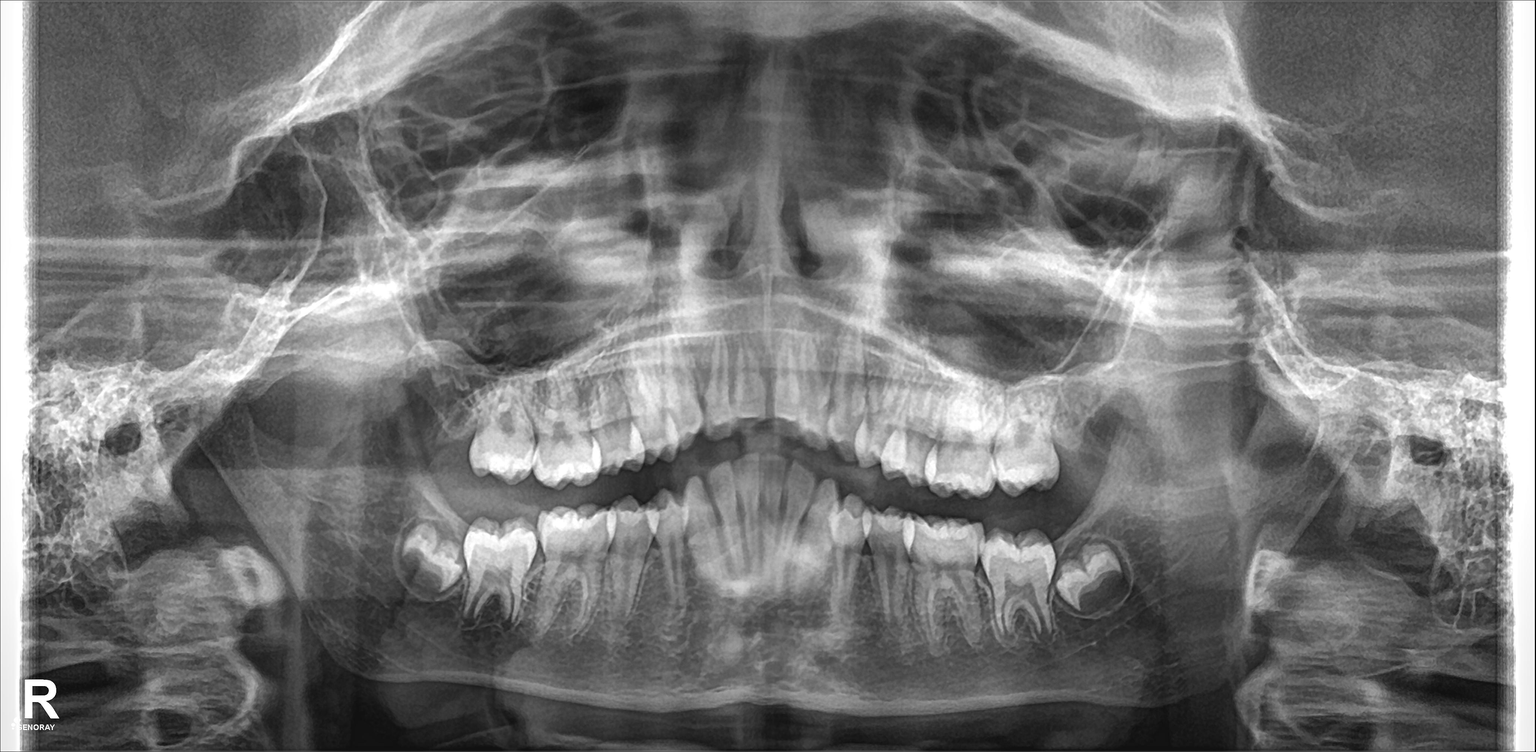Impacted Third Molar: (402, 516, 471, 600), (1048, 551, 1143, 611)
Missing Tooth: (1060, 389, 1116, 486), (415, 387, 474, 478)
